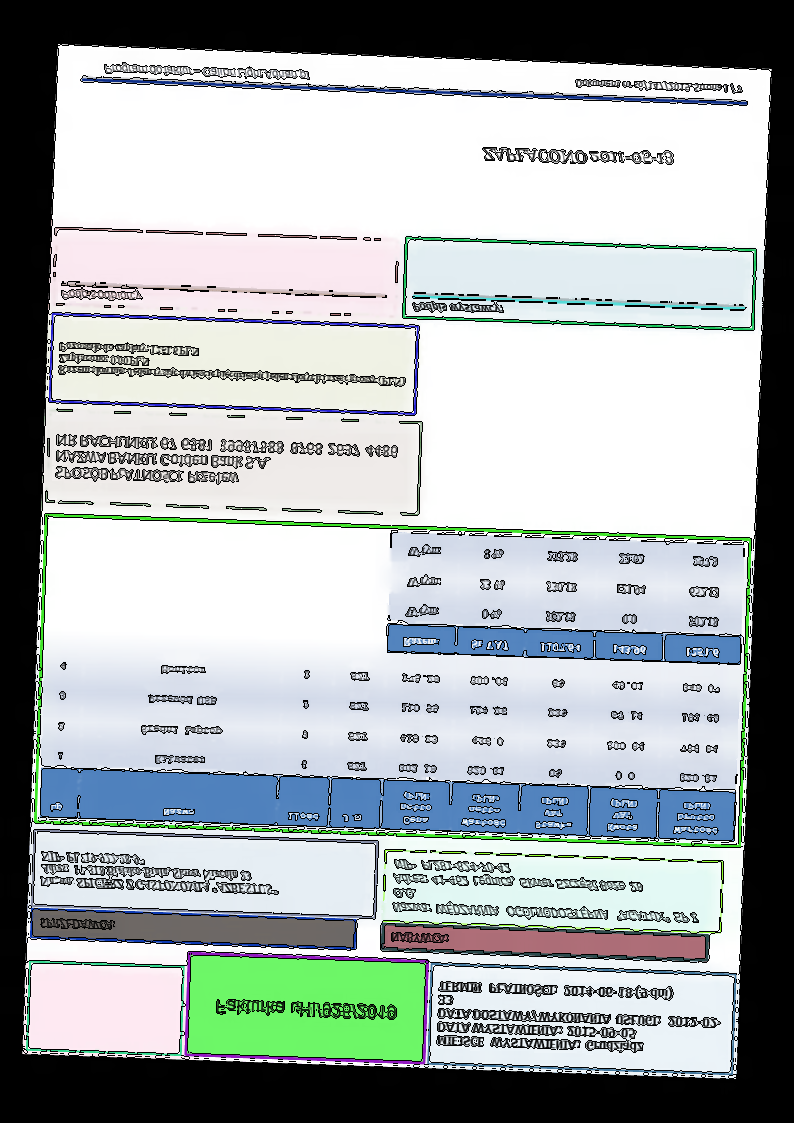Table: (38, 643, 741, 844), (386, 529, 746, 666)
TextBox: (434, 978, 726, 1059), (52, 429, 400, 494), (389, 855, 703, 926), (56, 340, 408, 390), (38, 848, 282, 898), (480, 141, 674, 172), (102, 59, 312, 85), (213, 995, 400, 1023), (574, 76, 743, 97), (410, 297, 505, 319), (58, 285, 144, 305), (36, 915, 119, 935), (388, 928, 450, 947)
